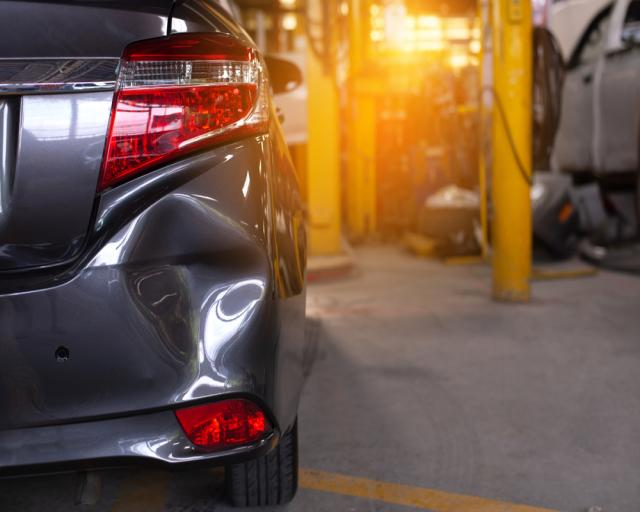dent: (123, 197, 267, 385)
